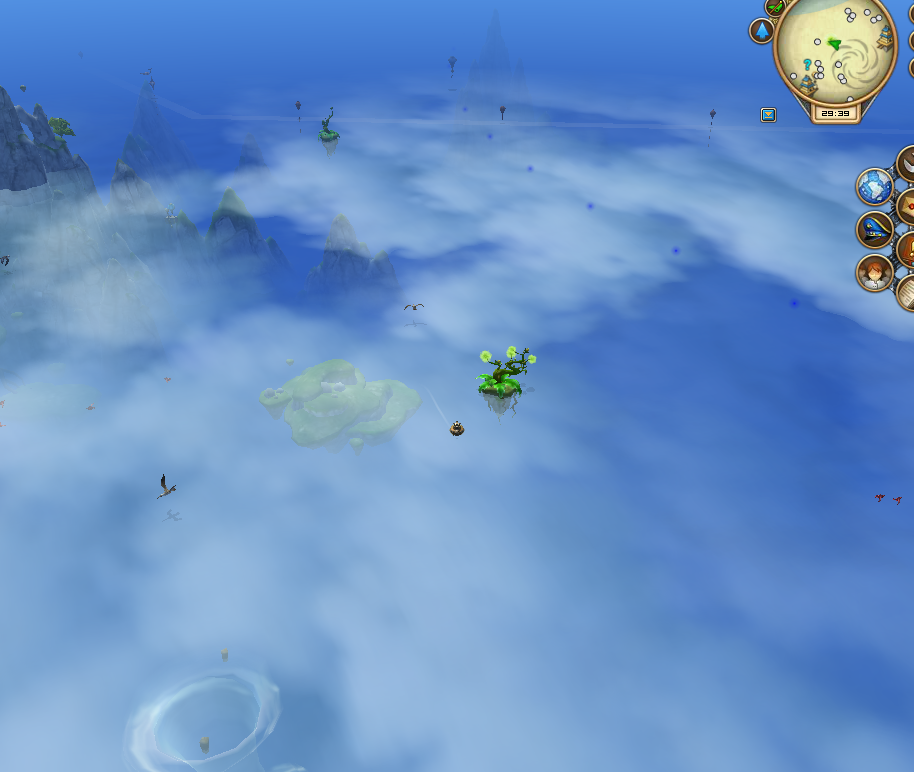dandelion-empty: (314, 101, 346, 151)
dandelion-full: (469, 334, 539, 415)
